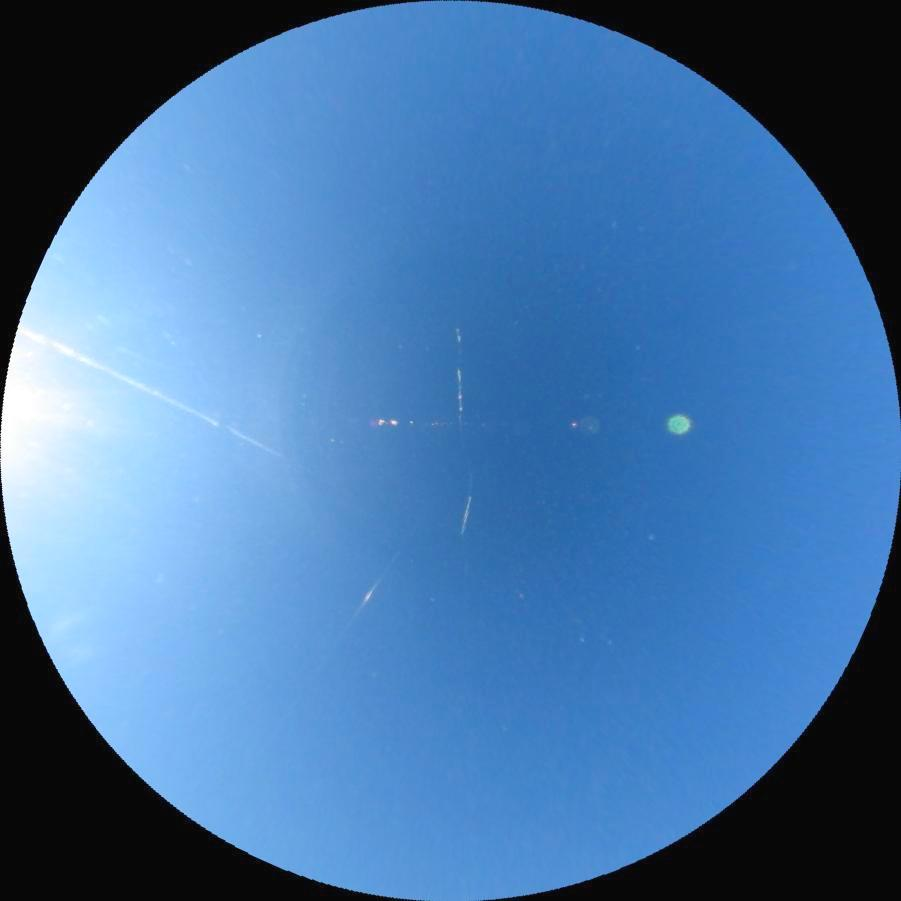parasite: (15, 323, 290, 460), (347, 555, 397, 624), (453, 324, 464, 425), (459, 475, 476, 536)
